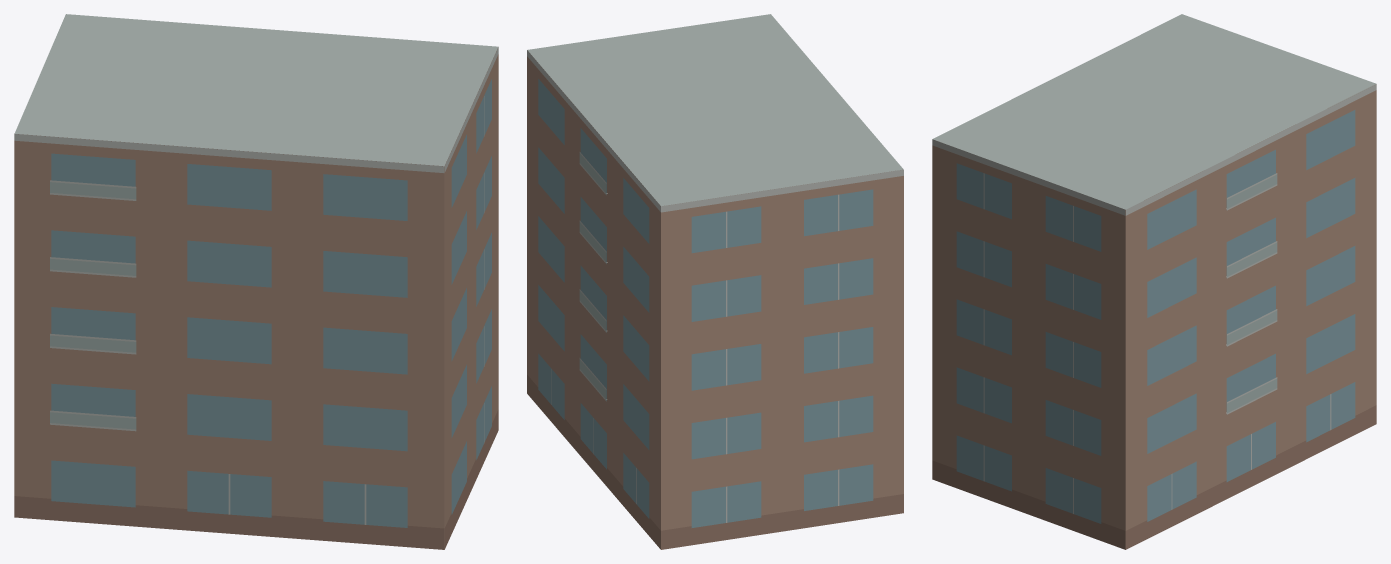
File: survey-upis-32655459.glb
3 views of the same model, side by side, from view 1: azimuth 30°, elevation 25°; view 2: azimuth 150°, elevation 25°; view 3: azimuth 270°, elevation 25° (orthographic). The views are drawn at different scales.
Visible parts, largest first — view 1: survey-upis-32655459.tmp; view 2: survey-upis-32655459.tmp; view 3: survey-upis-32655459.tmp.
Boxes of the visible parts, x1,y1,x2,y2 form: survey-upis-32655459.tmp: (14,14,498,549); survey-upis-32655459.tmp: (527,14,903,549); survey-upis-32655459.tmp: (932,14,1376,549).
Size of the model in its own units: 16.54 by 13.4 by 15.87.
